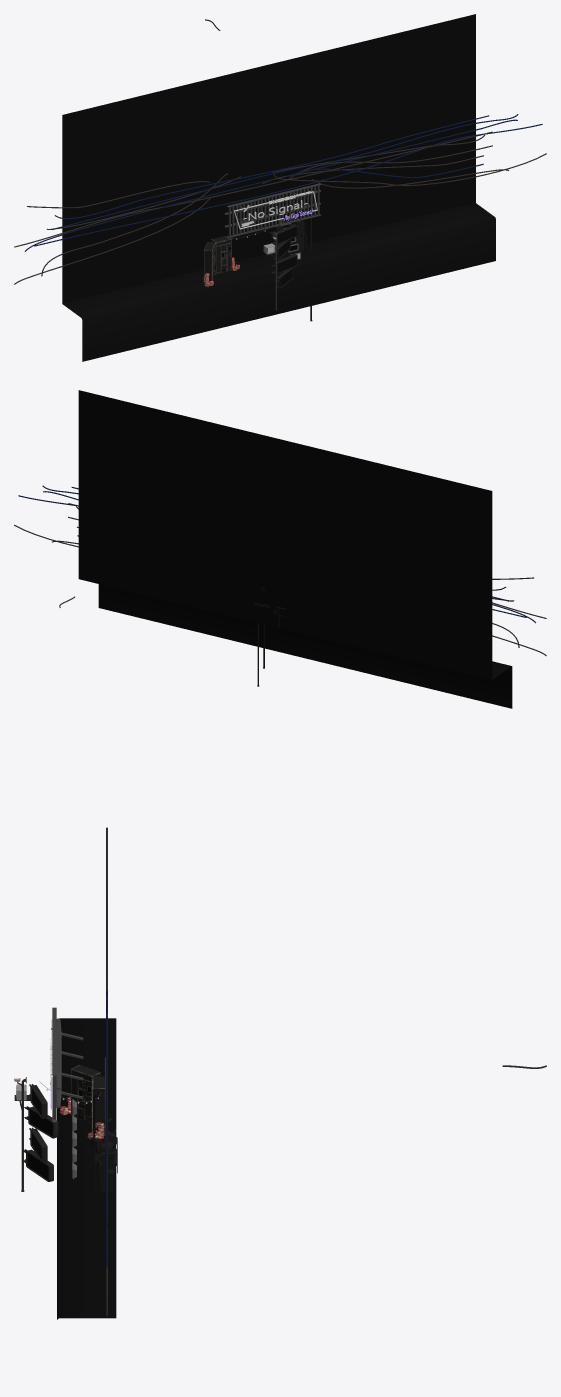
The model's file is Menu_scene.fbx.
3 views of the same model, one above another, from view 1: azimuth 30°, elevation 25°; view 2: azimuth 150°, elevation 25°; view 3: azimuth 270°, elevation 25° (orthographic). The views are drawn at different scales.
Visible parts, largest first — view 1: Cube.039, BézierCurve.006, BillBoard, SM_Server_rack.003; view 2: Cube.039, BézierCurve.006; view 3: Cube.039, BillBoard, BézierCurve.006, SM_Server_rack.004, Plane.092.
Part boxes in pixels (x1,y1,x2,y2): Cube.039: (62,14,495,361); BézierCurve.006: (14,19,546,284); BillBoard: (224,183,321,238); SM_Server_rack.003: (211,235,231,274); Cube.039: (78,390,512,708); BézierCurve.006: (14,485,546,655); Cube.039: (57,1018,116,1319); BillBoard: (52,1007,83,1121); BézierCurve.006: (104,827,546,1315); SM_Server_rack.004: (71,1065,100,1123); Plane.092: (90,1117,117,1191).
Bounding box in the file's own units: 2445 × 4195 × 1953.
